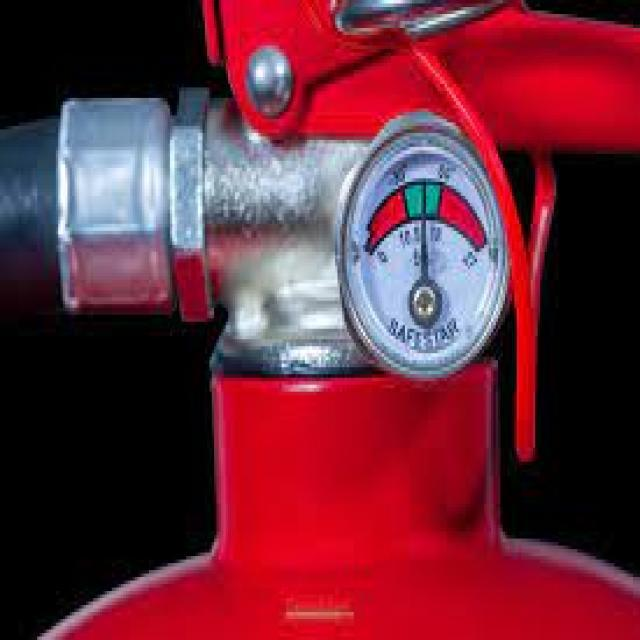pressure gauge: (337, 114, 508, 378)
